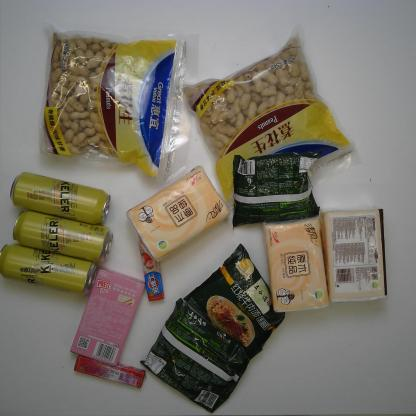Alcohol: (0, 242, 99, 298), (10, 171, 111, 225), (12, 209, 113, 263)
Candy: (73, 354, 147, 389), (138, 236, 164, 302)
Dessert: (69, 266, 146, 367)
Dried Food: (181, 22, 363, 213), (36, 23, 201, 185)
Instant Noodles: (139, 296, 252, 414), (183, 242, 285, 360), (232, 150, 321, 231)
Tissue: (126, 165, 231, 263), (319, 206, 388, 304), (263, 215, 330, 314)
